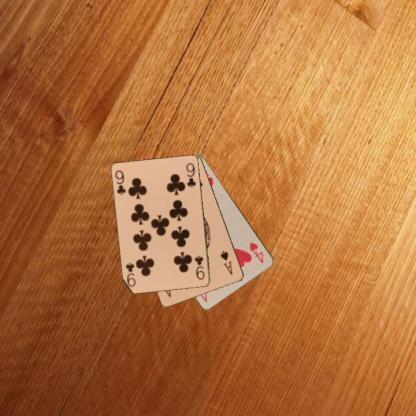4h: (247, 240, 265, 264)
9c: (192, 252, 206, 282), (112, 168, 127, 196)
As: (218, 247, 234, 276)
